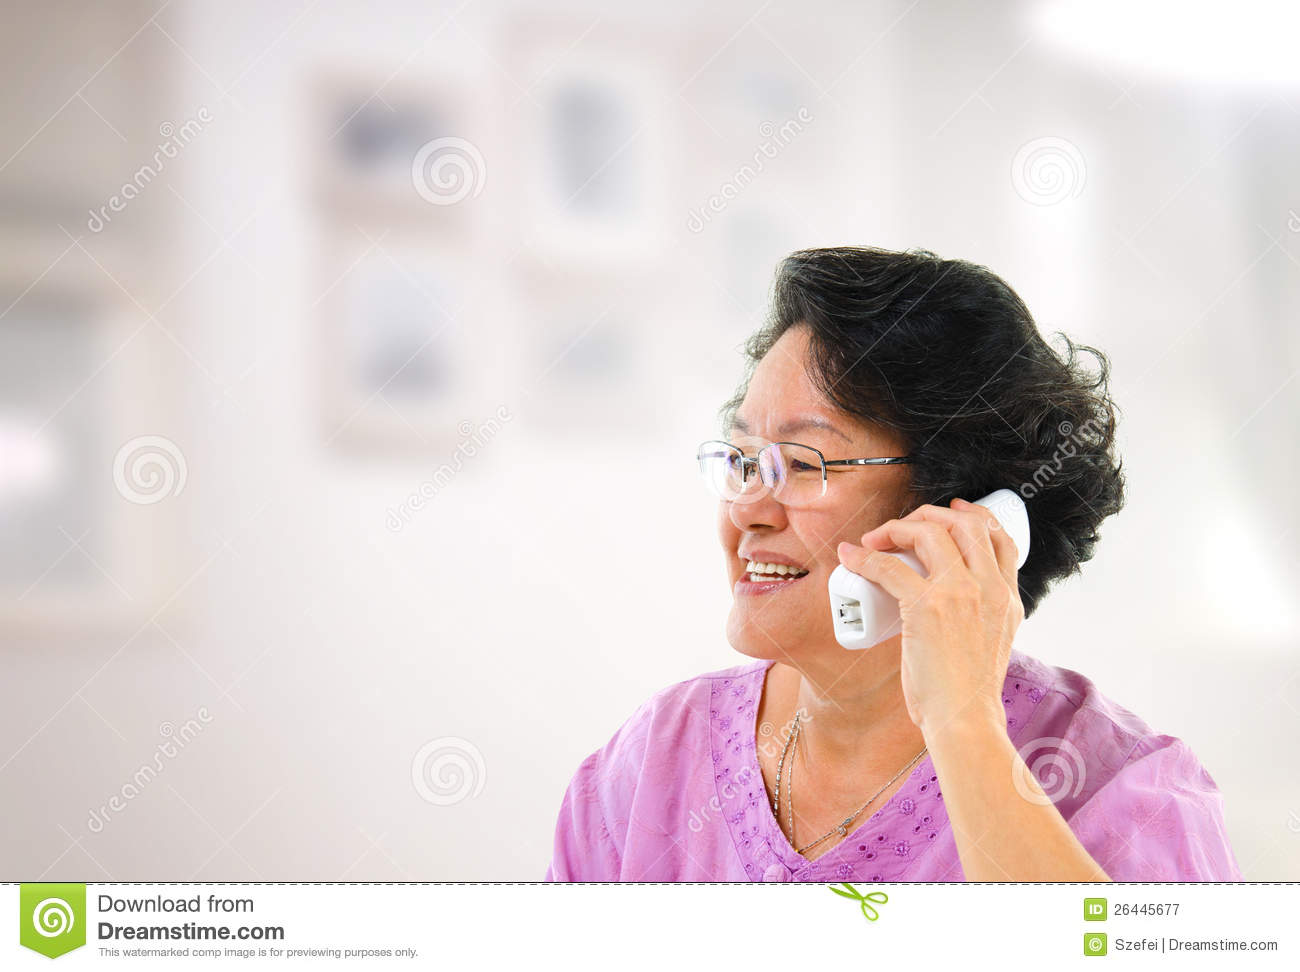phone: (828, 486, 1031, 651)
talk: (709, 389, 1039, 760)
